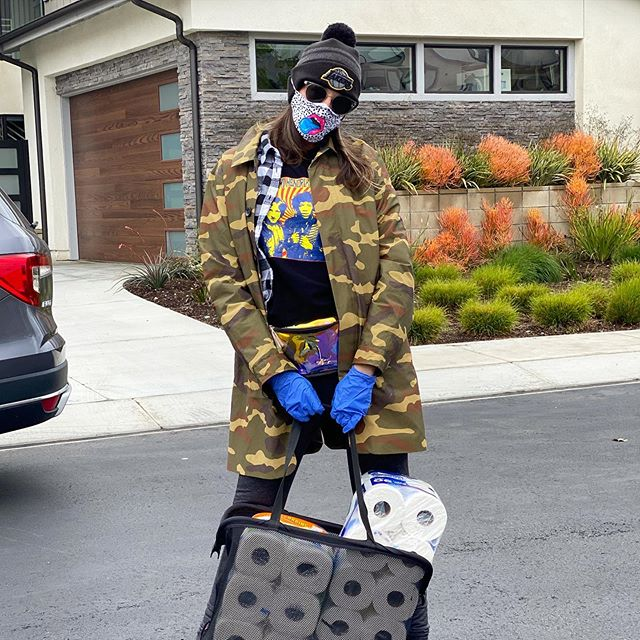homemade: (289, 99, 349, 149)
